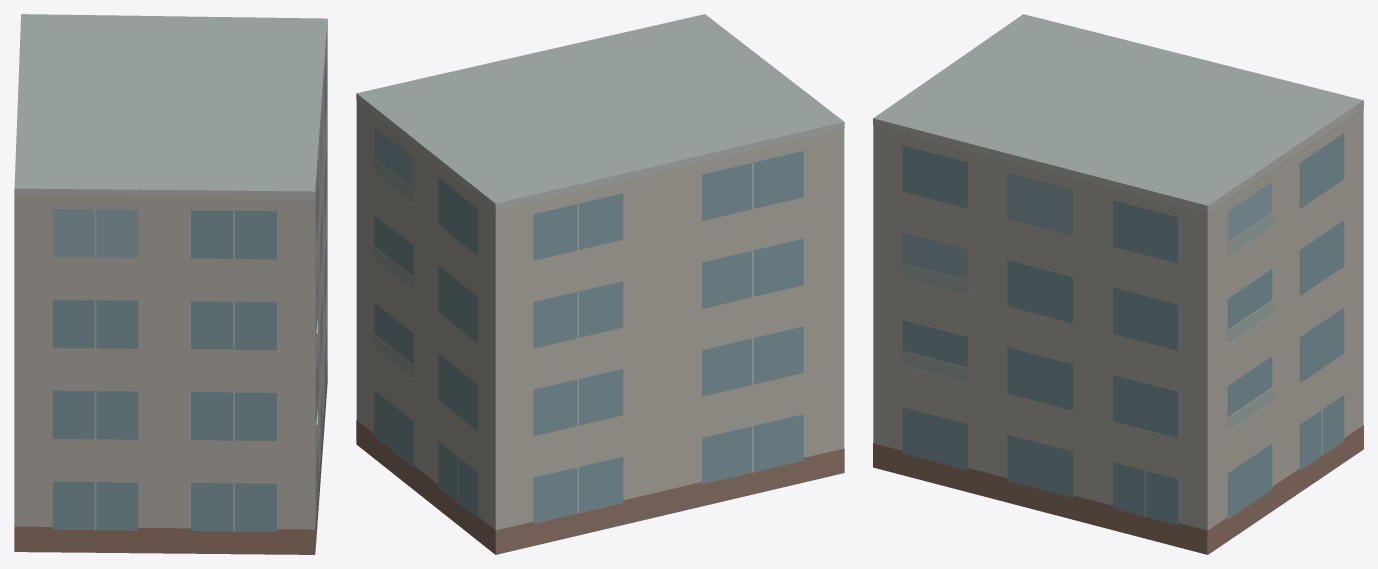
File: survey-upis-32680209.glb
The picture shows the model from 3 angles, left to right: view 1: azimuth 30°, elevation 25°; view 2: azimuth 150°, elevation 25°; view 3: azimuth 270°, elevation 25°; orthographic projection. The views are drawn at different scales.
Parts seen in each view (by area): view 1: survey-upis-32680209.tmp; view 2: survey-upis-32680209.tmp; view 3: survey-upis-32680209.tmp.
Part boxes in pixels (x1,y1,x2,y2): survey-upis-32680209.tmp: [14, 14, 327, 554]; survey-upis-32680209.tmp: [356, 14, 844, 554]; survey-upis-32680209.tmp: [873, 14, 1363, 554].
Size of the model in its own units: 14.03 by 11.9 by 15.17.
